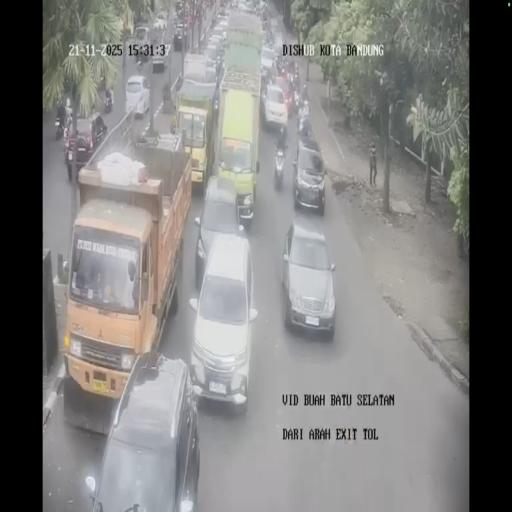car: (91, 354, 198, 509), (188, 232, 258, 407), (282, 220, 336, 337), (64, 111, 108, 179), (292, 139, 326, 214), (261, 82, 287, 131), (125, 75, 151, 118), (203, 34, 225, 80), (133, 25, 151, 62), (260, 45, 276, 80), (173, 18, 187, 48), (214, 8, 230, 34), (270, 17, 282, 45), (153, 12, 167, 30), (238, 0, 252, 14), (257, 0, 267, 16)
motorcycle: (273, 141, 286, 189), (54, 109, 64, 141), (298, 109, 310, 135), (291, 60, 301, 91), (103, 88, 113, 113), (294, 87, 301, 111), (136, 55, 144, 72), (262, 14, 268, 30)
truck: (210, 7, 264, 226), (173, 60, 219, 192), (150, 33, 168, 71), (174, 1, 184, 19)
